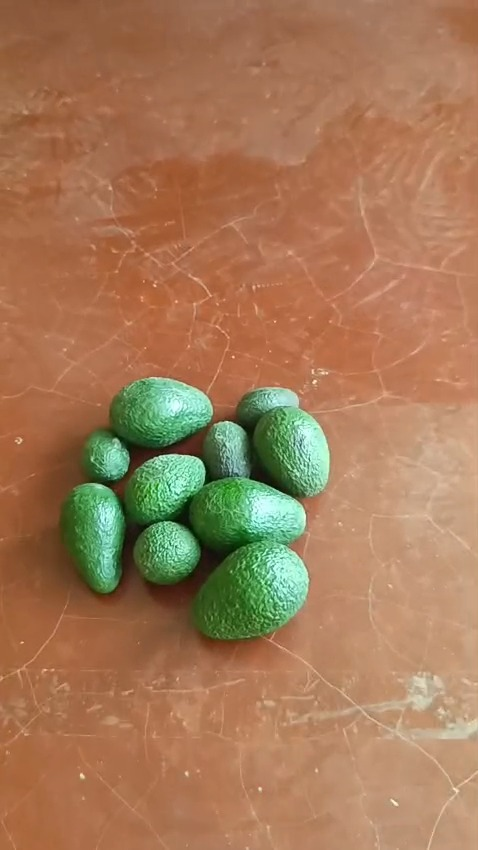Primera: (193, 541, 309, 639), (188, 476, 305, 552), (108, 375, 214, 448), (253, 405, 330, 497)
Segunda: (60, 481, 127, 594), (123, 452, 207, 524)
Tercera: (130, 518, 202, 585), (201, 420, 252, 481), (234, 385, 300, 432), (81, 428, 131, 483)
